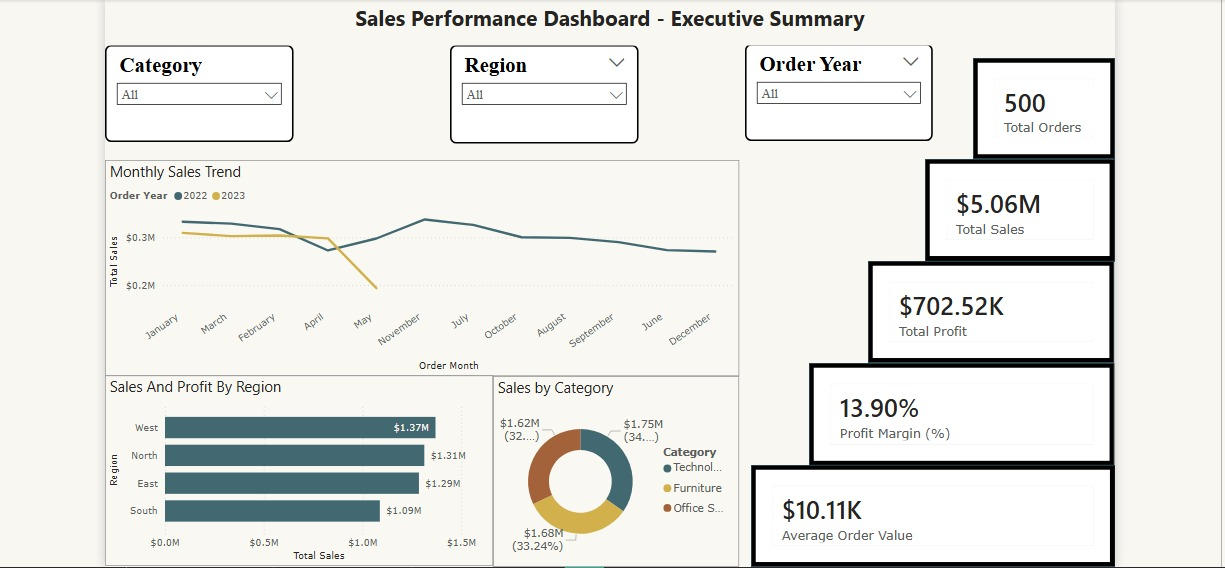

The dashboard page shown, as its layout file describes it:
{"tool":"powerbi","page":{"name":"Executive Summary","canvas":[1280,720],"ordinal":0},"visuals":[{"type":"cardVisual","fields":{"Data":["Orders.Average Order Value"]},"box":[818.5,590.5,461.5,129],"z":0},{"type":"cardVisual","fields":{"Data":["Orders.Profit Margin (%)"]},"box":[893,461.5,387,130.4],"z":1000},{"type":"cardVisual","fields":{"Data":["Orders.Total Orders"]},"box":[1099.8,75,180.2,128.3],"z":2000},{"type":"cardVisual","fields":{"Data":["Orders.Total Sales"]},"box":[1039.3,203.2,240.7,129.7],"z":3000},{"type":"cardVisual","fields":{"Data":["Orders.Total Profit"]},"box":[967.5,332.5,312.5,129],"z":4000},{"type":"lineChart","title":"Monthly Sales Trend","fields":{"Series":["Orders.Order Year"],"Y":["Orders.Total Sales"],"Category":["Orders.Order Month"]},"box":[0,203.5,804.1,273.8],"z":5000},{"type":"clusteredBarChart","title":"Sales And Profit By Region","fields":{"Category":["Orders.Region"],"Y":["Orders.Total Sales"]},"box":[0,477.1,491.5,242.2],"z":6000},{"type":"donutChart","title":"Sales by Category","fields":{"Category":["Orders.Category"],"Y":["Orders.Total Sales"]},"box":[491.6,477.3,312.5,242.2],"z":7000},{"type":"slicer","fields":{"Values":["Orders.Order Year"]},"box":[811.3,57.3,237.9,123.3],"z":8000},{"type":"slicer","fields":{"Values":["Orders.Region"]},"box":[437.2,58.8,239.4,124.7],"z":9000},{"type":"slicer","fields":{"Values":["Orders.Category"]},"box":[0,58.8,239.4,123.3],"z":10000},{"type":"textbox","box":[0,0,1280,58.8],"z":11000}]}

Visuals, with their boxes on the page's 1280x720 design canvas (x1, y1, x2, y2). These are canvas units, not pixel positions in the 1225x568 screenshot, which may show the page scaled, cropped or inside an application window:
cardVisual - Orders.Average Order Value: l=818, t=590, r=1280, b=720
cardVisual - Orders.Profit Margin (%): l=893, t=462, r=1280, b=592
cardVisual - Orders.Total Orders: l=1100, t=75, r=1280, b=203
cardVisual - Orders.Total Sales: l=1039, t=203, r=1280, b=333
cardVisual - Orders.Total Profit: l=968, t=332, r=1280, b=462
"Monthly Sales Trend" lineChart: l=0, t=204, r=804, b=477
"Sales And Profit By Region" clusteredBarChart: l=0, t=477, r=492, b=719
"Sales by Category" donutChart: l=492, t=477, r=804, b=720
slicer - Orders.Order Year: l=811, t=57, r=1049, b=181
slicer - Orders.Region: l=437, t=59, r=677, b=184
slicer - Orders.Category: l=0, t=59, r=239, b=182
textbox: l=0, t=0, r=1280, b=59
